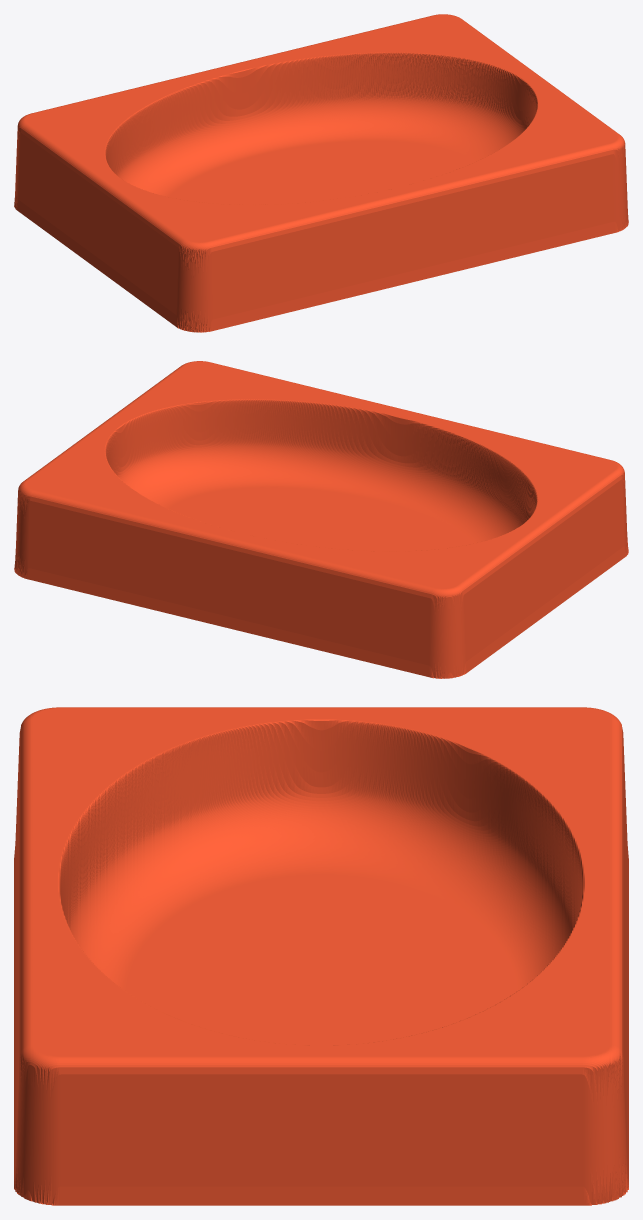
The model's file is mold.glb.
3 views of the same model, one above another, from view 1: azimuth 30°, elevation 25°; view 2: azimuth 150°, elevation 25°; view 3: azimuth 270°, elevation 25° (orthographic). The views are drawn at different scales.
Parts seen in each view (by area): view 1: geometry_0; view 2: geometry_0; view 3: geometry_0.
Part boxes in pixels (bbox=[...]): geometry_0: bbox=[14, 14, 628, 332]; geometry_0: bbox=[14, 361, 628, 678]; geometry_0: bbox=[14, 707, 628, 1205].
Bounding box in the file's own units: 0.1709 × 0.031 × 0.1222.
